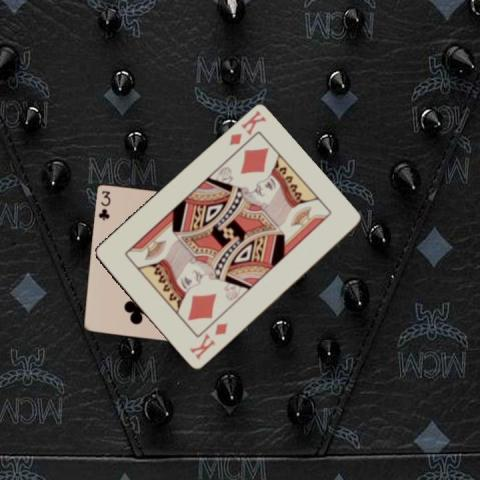3c: (95, 188, 112, 222)
Kd: (187, 320, 229, 361), (226, 108, 268, 147)
